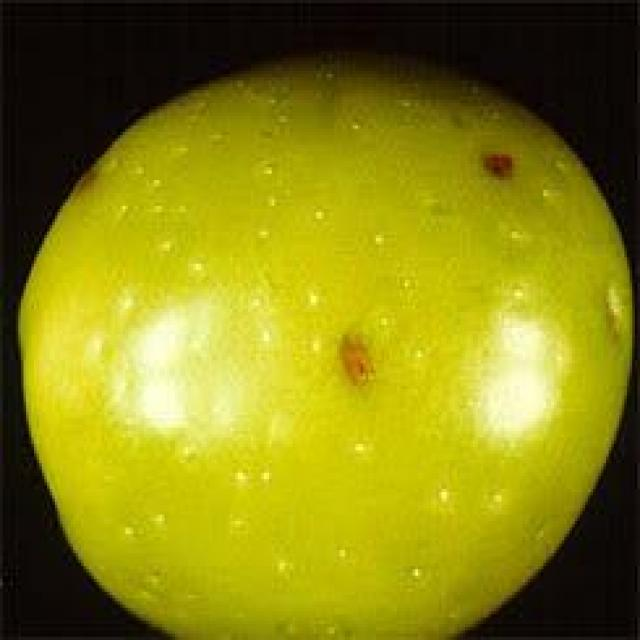Olive Fruit Fly: (21, 58, 601, 637)
